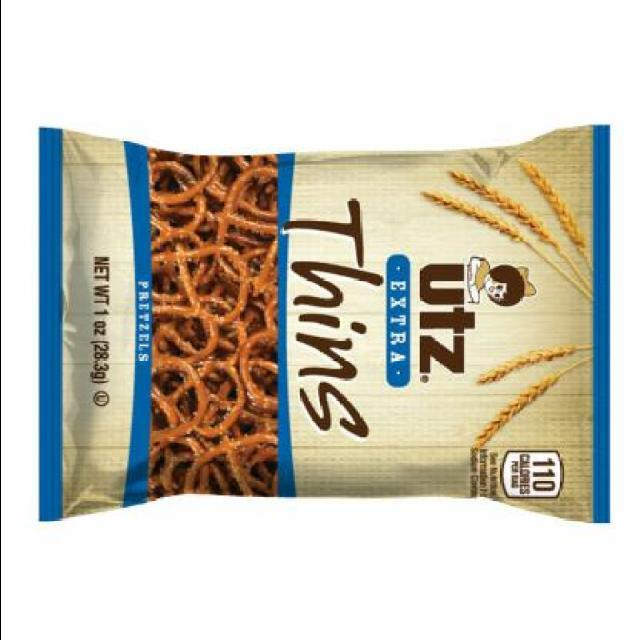Salatini: (29, 114, 616, 528)
